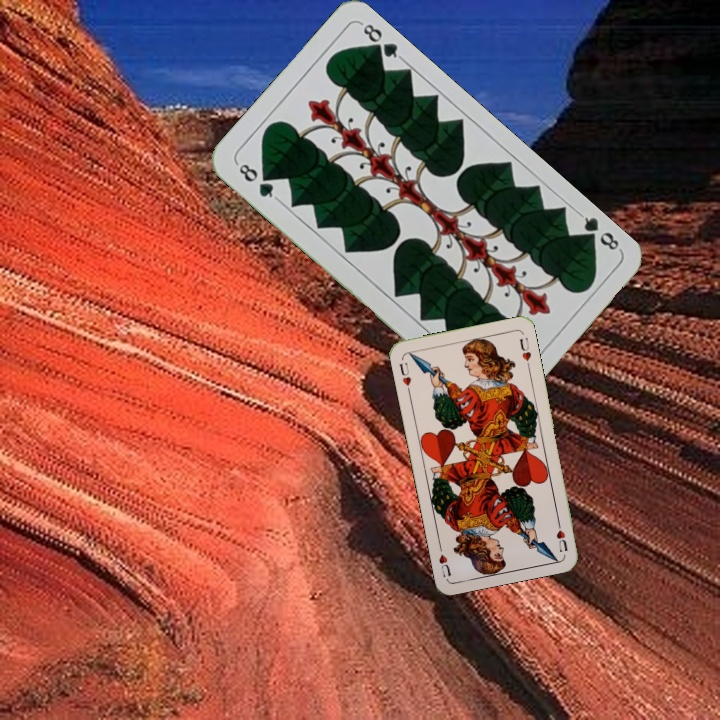G8: (575, 209, 624, 253), (233, 159, 281, 203)
HU: (552, 516, 570, 555), (395, 359, 414, 389)
